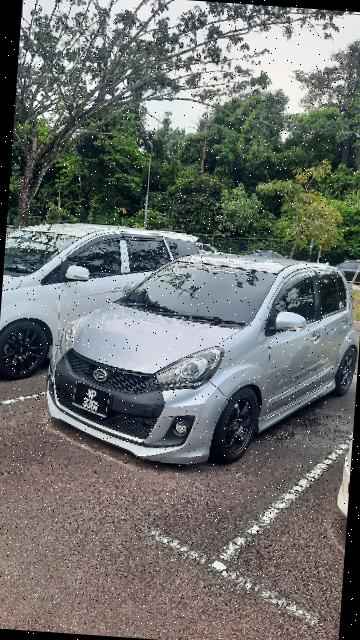License_Plate: (68, 379, 116, 424)
car: (41, 235, 360, 482), (1, 214, 211, 396)
